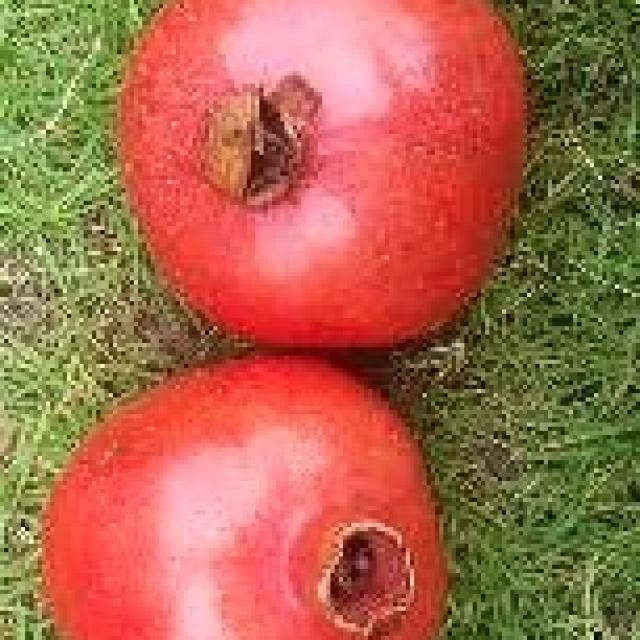Good_Lime-10-21 days: (25, 0, 540, 640)
